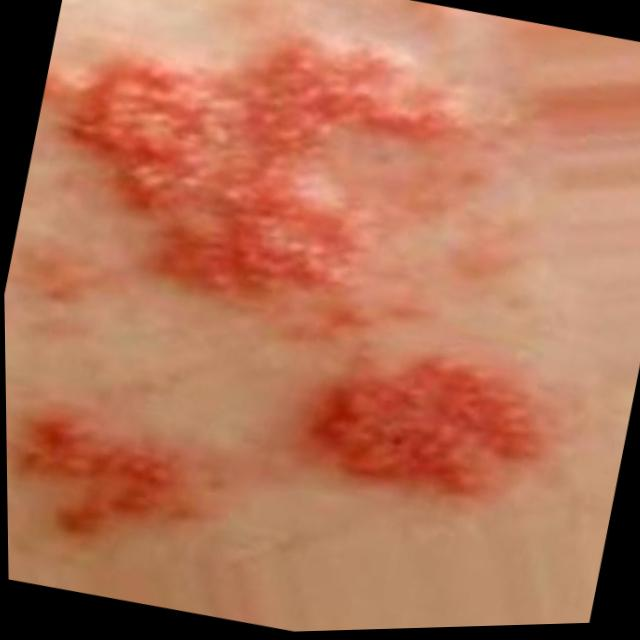Shingles: (54, 0, 458, 319), (307, 339, 537, 518), (11, 415, 199, 559)
